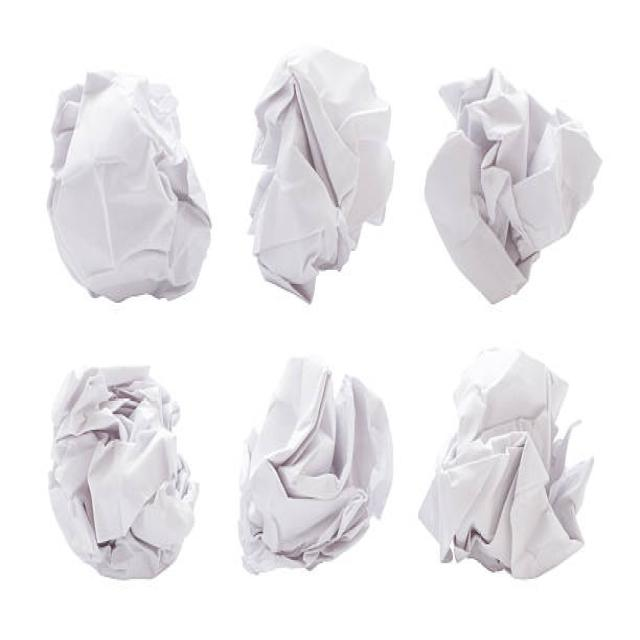paper: (420, 60, 604, 312), (42, 72, 228, 314), (426, 364, 612, 599), (247, 33, 396, 314), (42, 364, 220, 596), (240, 362, 398, 571)
